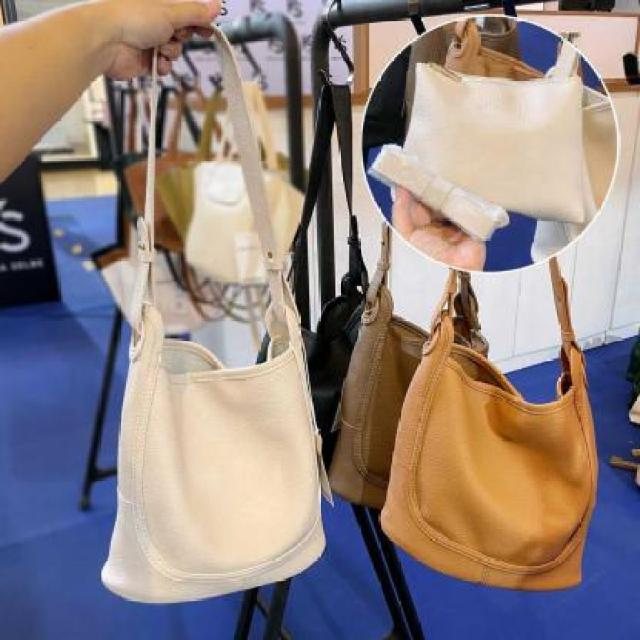Bag: (74, 10, 368, 608)
